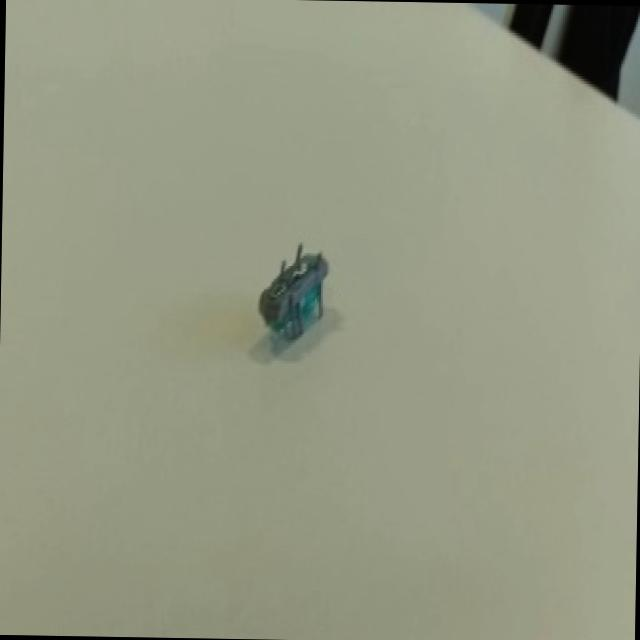5_NanoBug_GrisClaro: (234, 233, 336, 387)
